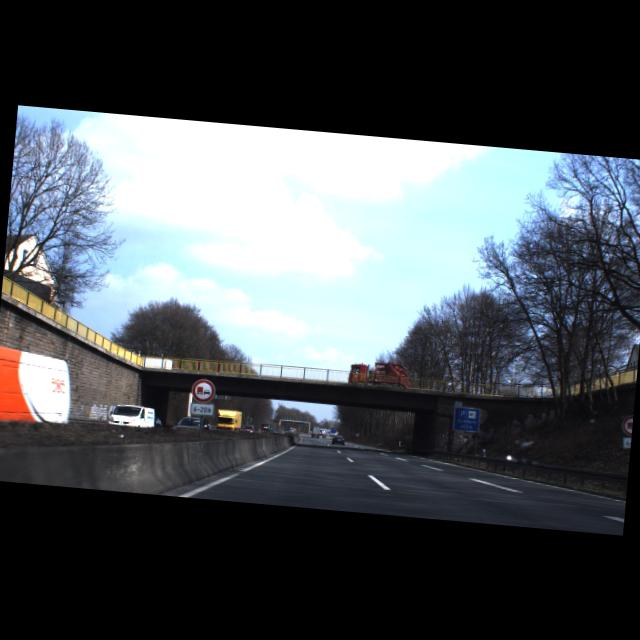prohibitory: (190, 378, 216, 404), (621, 414, 633, 436)
